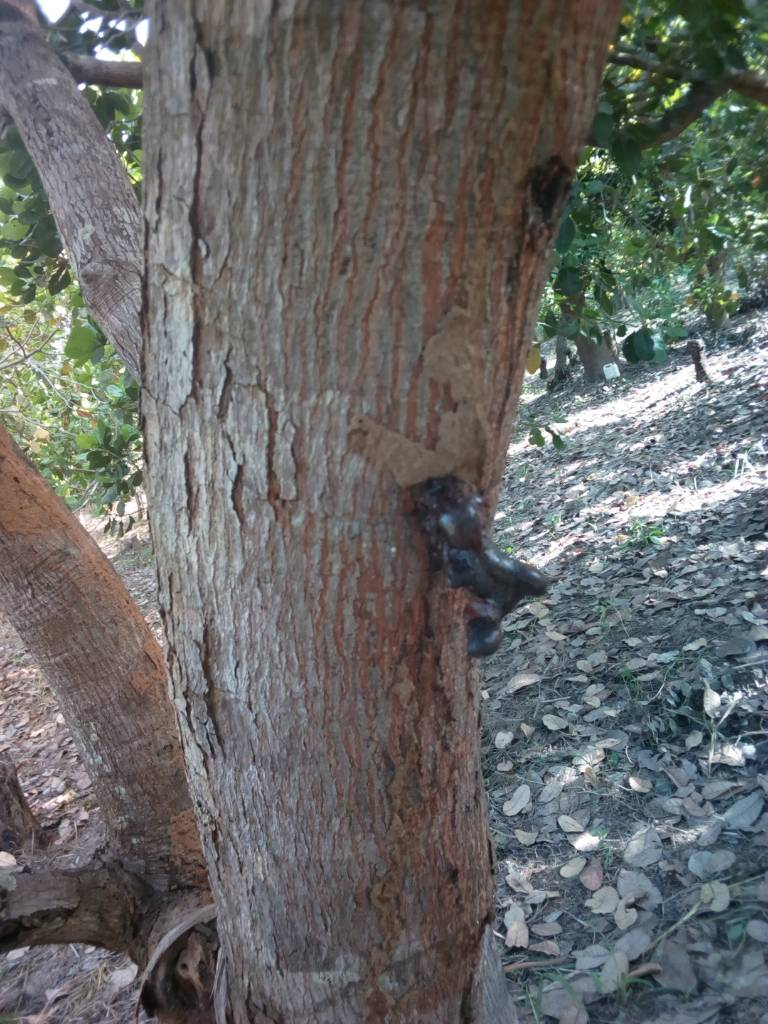Termites: (2, 439, 207, 891), (360, 605, 475, 1024)
